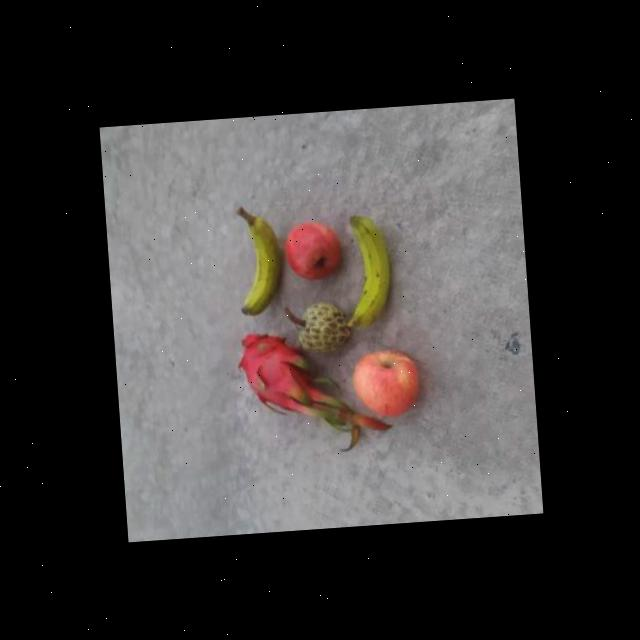Sakya fruit: (292, 299, 348, 355)
apple: (345, 346, 421, 418), (282, 216, 342, 286)
banana: (346, 202, 392, 334), (230, 204, 280, 318)
pitaya: (232, 331, 302, 406)
